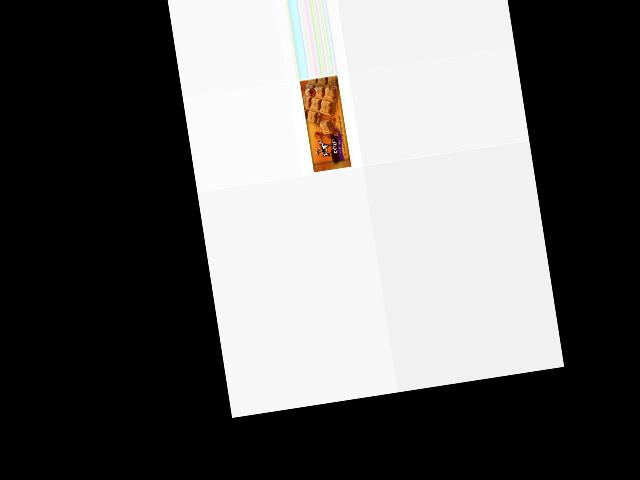chocolate: (300, 74, 354, 175)
